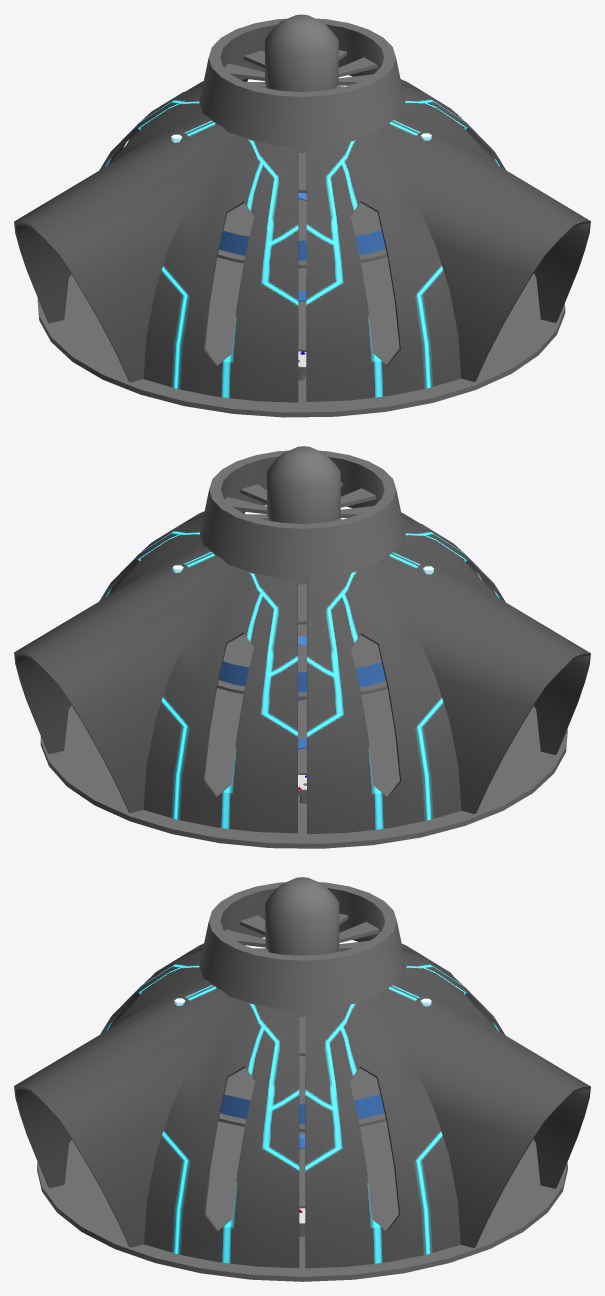
3 views of the same model, one above another, from view 1: azimuth 30°, elevation 25°; view 2: azimuth 150°, elevation 25°; view 3: azimuth 270°, elevation 25° (orthographic).
Visible parts, largest first — view 1: wall 1, wall 1.001, Cylinder.010, Circle, Cylinder, Cylinder.002, screw, Cylinder.003; view 2: wall 1, wall 1.002, Cylinder.010, Circle, Cylinder, Cylinder.002, screw, Cylinder.003; view 3: wall 1.001, wall 1.002, Cylinder.010, Circle, Cylinder, Cylinder.002, screw, Cylinder.003.
Boxes of the visible parts, <box> form: wall 1: <box>14,86,298,402</box>; wall 1.001: <box>306,85,590,401</box>; Cylinder.010: <box>37,199,565,417</box>; Circle: <box>199,18,405,152</box>; Cylinder: <box>265,14,338,152</box>; Cylinder.002: <box>217,152,387,268</box>; screw: <box>224,50,377,88</box>; Cylinder.003: <box>219,230,385,260</box>; wall 1: <box>307,518,590,834</box>; wall 1.002: <box>14,517,297,833</box>; Cylinder.010: <box>40,624,567,848</box>; Circle: <box>200,450,405,584</box>; Cylinder: <box>267,446,340,523</box>; Cylinder.002: <box>217,584,387,699</box>; screw: <box>225,482,376,520</box>; Cylinder.003: <box>219,661,385,692</box>; wall 1.001: <box>14,950,299,1268</box>; wall 1.002: <box>305,951,590,1268</box>; Cylinder.010: <box>37,1056,567,1281</box>; Circle: <box>199,882,406,1016</box>; Cylinder: <box>265,877,339,955</box>; Cylinder.002: <box>218,1016,386,1131</box>; screw: <box>225,913,379,952</box>; Cylinder.003: <box>220,1094,384,1124</box>.
Size of what is drawn, in the model's own units: 32.85 by 18.11 by 32.73.
7 materials, 1 textured.
